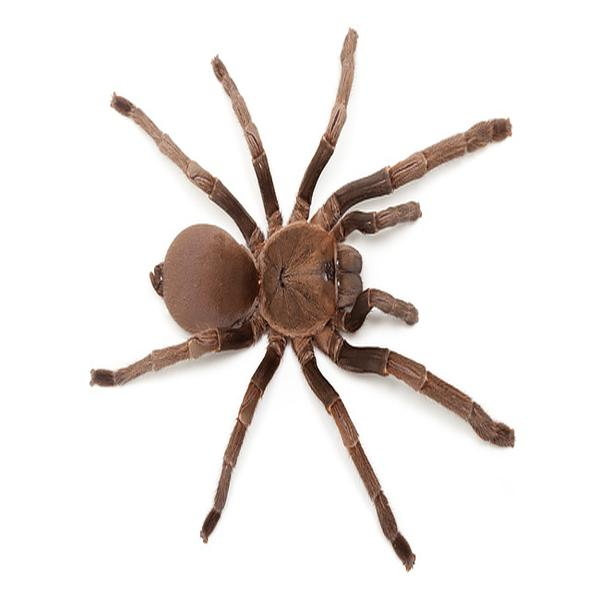Tarantula Spider: (116, 31, 504, 552)
